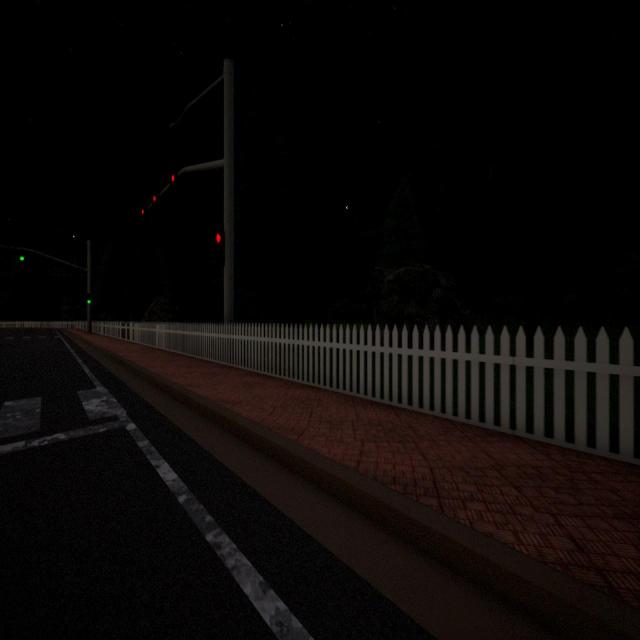traffic_light: (216, 230, 226, 265), (20, 248, 24, 262), (170, 174, 177, 182), (87, 294, 91, 304), (152, 195, 157, 201), (141, 208, 144, 215)
